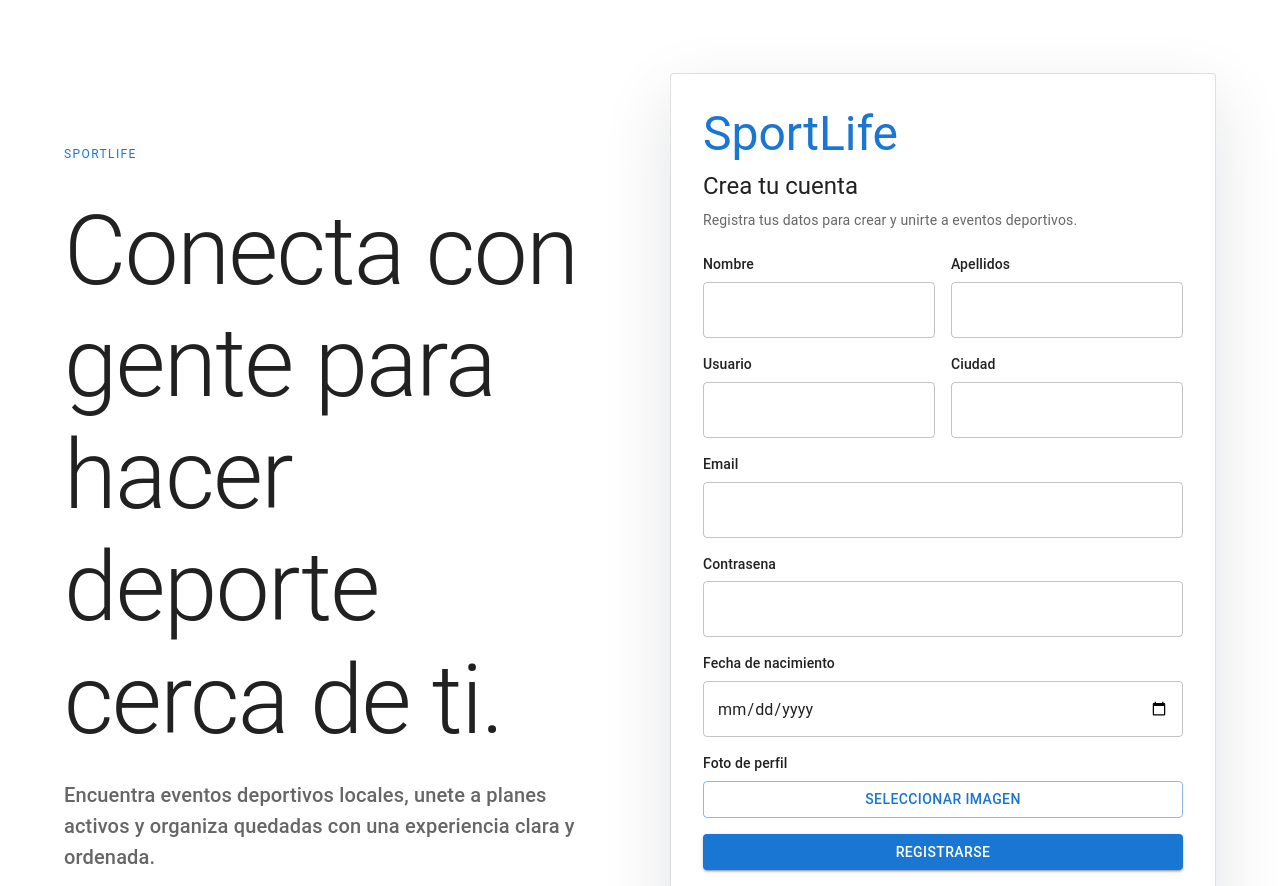
Test case: RegisterPage › shows register validation errors
This screenshot has width=1280, height=886.
Click the button "Registrarse" at (943, 852), box [703,834,1183,870]
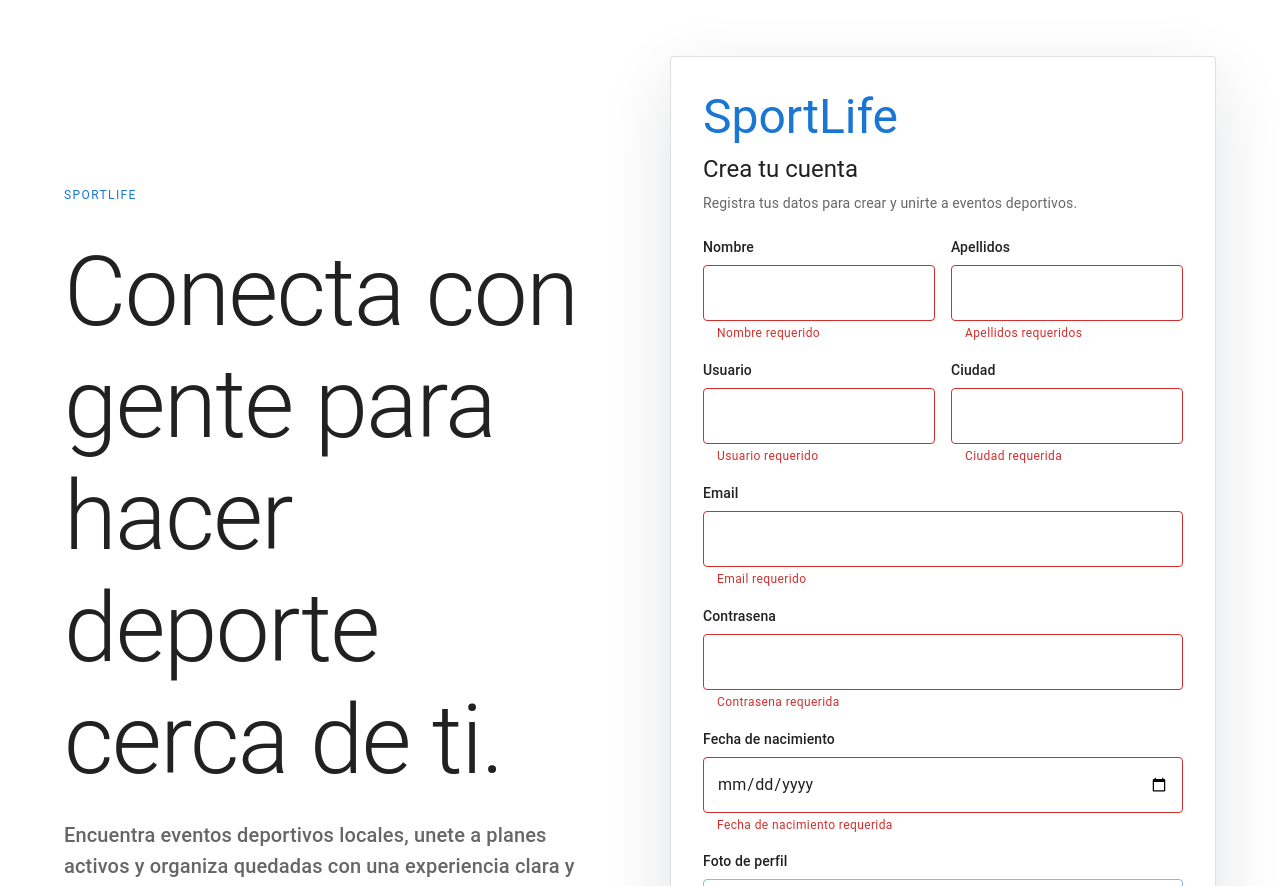
Check: the text "Nombre requerido" is shown, box [717,326,820,340]
